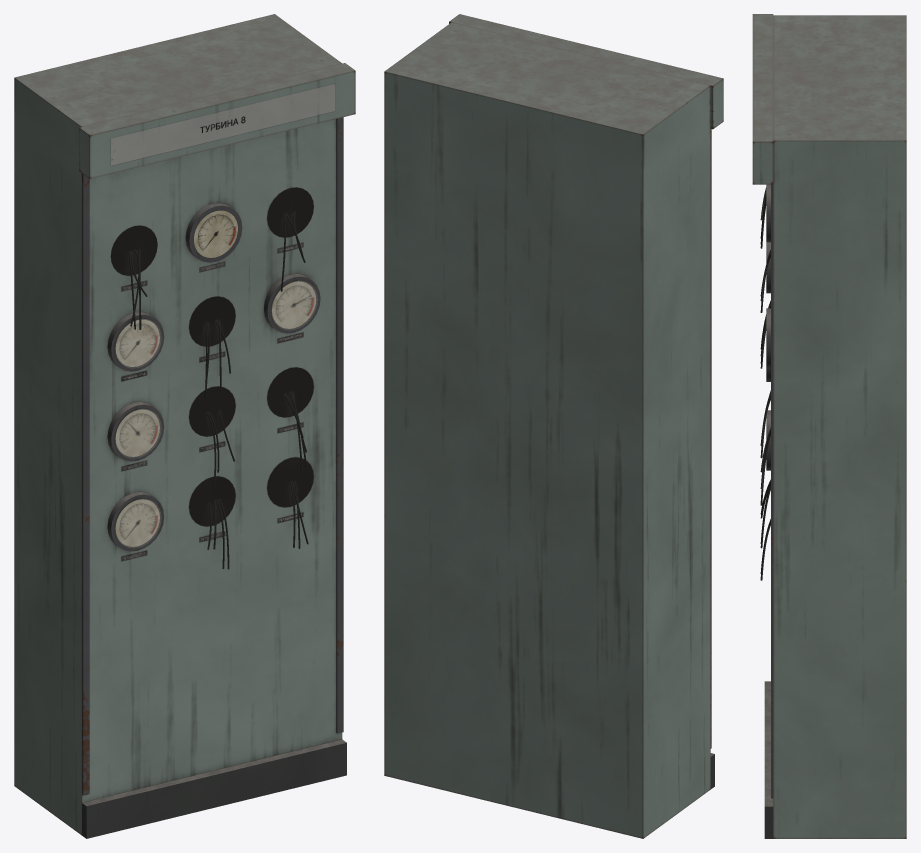
Rendered from SM_WallPanel_Looted.fbx.
3 renders of one model, left to right at view 1: azimuth 30°, elevation 25°; view 2: azimuth 150°, elevation 25°; view 3: azimuth 270°, elevation 25°, orthographic.
Visible parts, largest first — view 1: SM_WallPanel_Looted; view 2: SM_WallPanel_Looted; view 3: SM_WallPanel_Looted.
Boxes of the visible parts, x1,y1,x2,y2 form: SM_WallPanel_Looted: (14,14,355,838); SM_WallPanel_Looted: (384,14,723,838); SM_WallPanel_Looted: (752,14,906,838).
Size of the model in its own units: 1.02 by 2.6 by 0.5216.
Materials: 2 (1 with a texture image).
